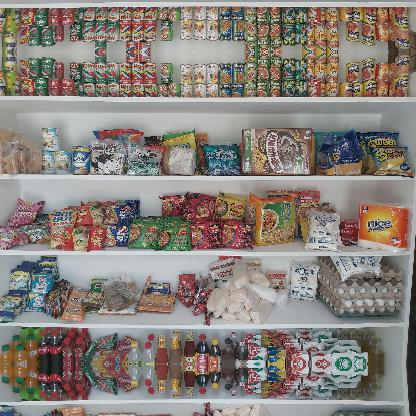Koko-Krunch: (240, 126, 315, 176)
Lady-s-Choice: (162, 144, 198, 176)
